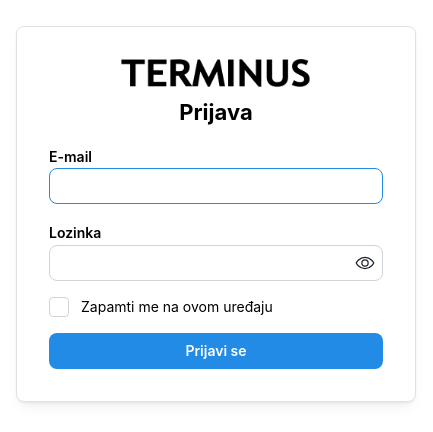
Test: LoginPage › rejects an invalid e-mail
Type "admin" into the field labelled "E-mail" at coordinates (216, 186), box top-left (49, 168), bottom-right (383, 204)
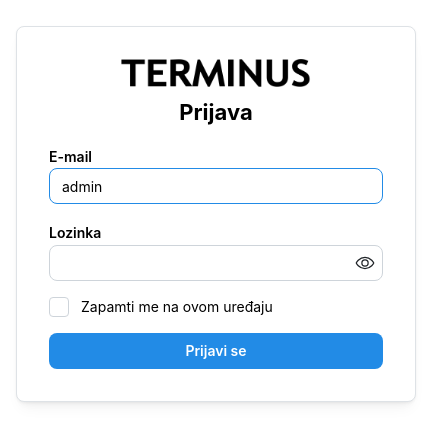
Type "lozinka1234" into the password field labelled "Lozinka" at coordinates (216, 263), box top-left (50, 246), bottom-right (382, 280)
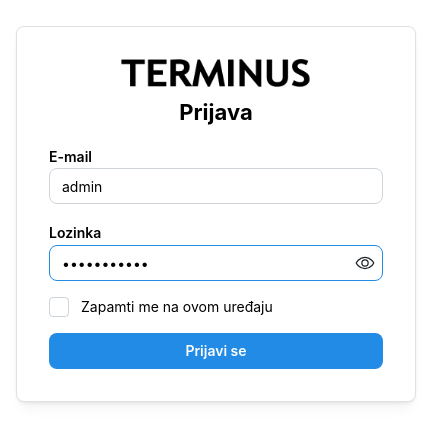
Click the button "Prijavi se" at coordinates (216, 351), box top-left (49, 333), bottom-right (383, 369)
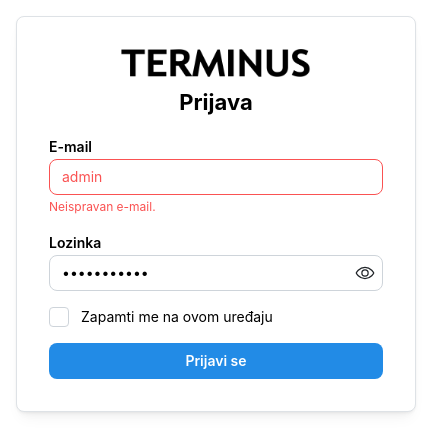
Check: the text "Neispravan e-mail." is shown, box top-left (49, 199), bottom-right (156, 214)
